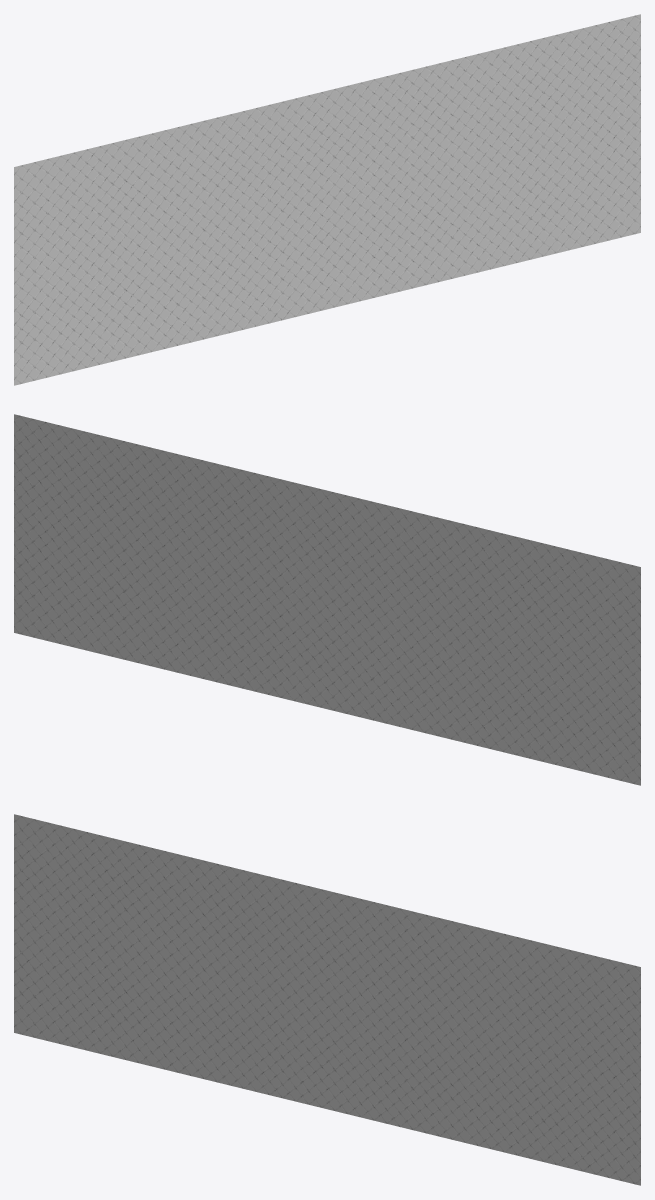
Rendered from netgoald.FBX.
3 renders of one model, top to bottom at view 1: azimuth 30°, elevation 25°; view 2: azimuth 150°, elevation 25°; view 3: azimuth 330°, elevation 25°, orthographic.
Parts seen in each view (by area): view 1: netgoal; view 2: netgoal; view 3: netgoal.
Boxes of the visible parts, x1,y1,x2,y2 form: netgoal: (14, 14, 640, 385); netgoal: (14, 414, 640, 785); netgoal: (14, 814, 640, 1185).
Size of the model in its own units: 732 by 244 by 1.07e-05.
